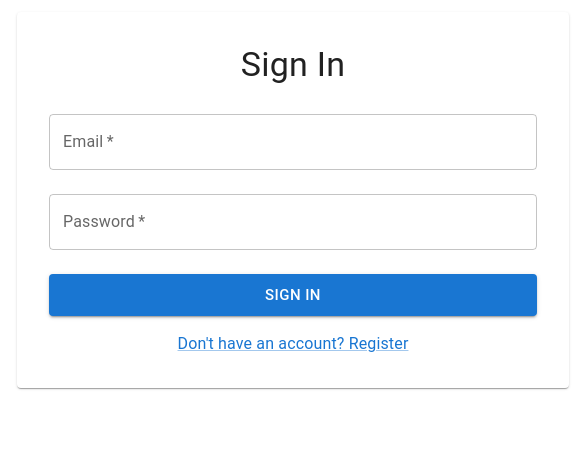
Scenario: LoginPage › displays error on login failure
The width and height of the screenshot is (587, 471).
Type "test@test.com" into the field labelled "Email *" at (293,142), box [49, 114, 537, 170]
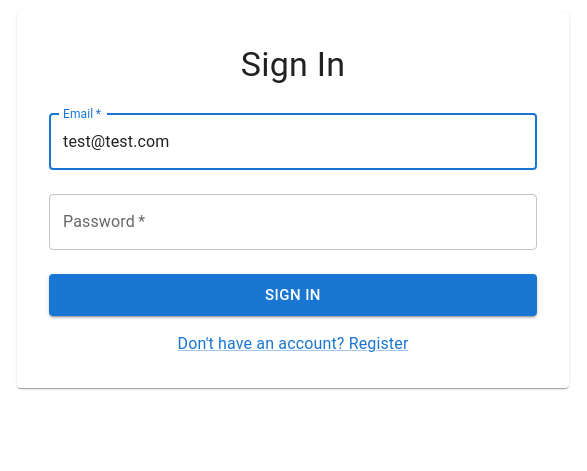
Type "wrong" into the password field labelled "Password *" at (293,222), box [49, 194, 537, 250]
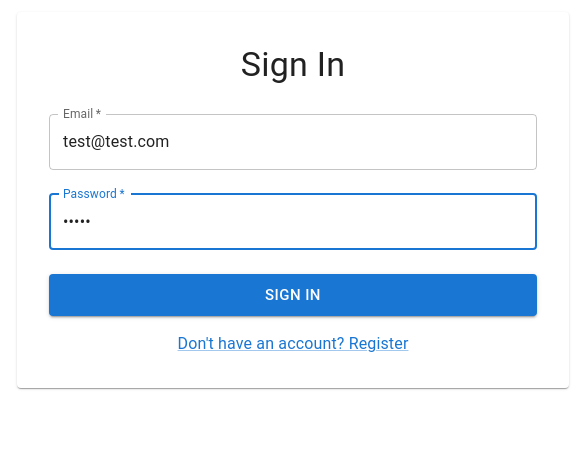
Click the button "Sign In" at (293,295), box [49, 274, 537, 316]
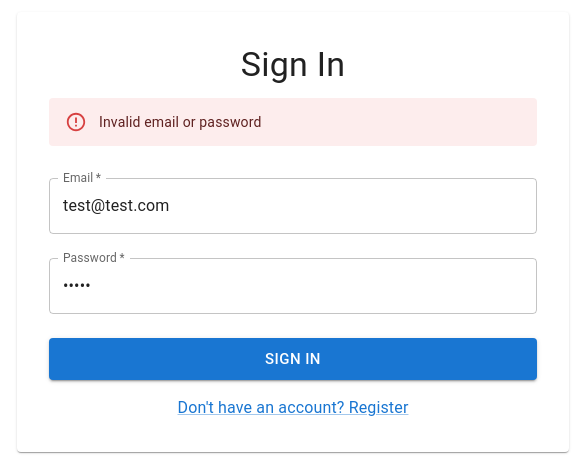
Expected: the text "Invalid email or password" is shown, [99, 112, 262, 132]
